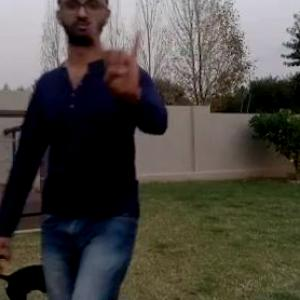takeoff-hand: (84, 23, 148, 100)
